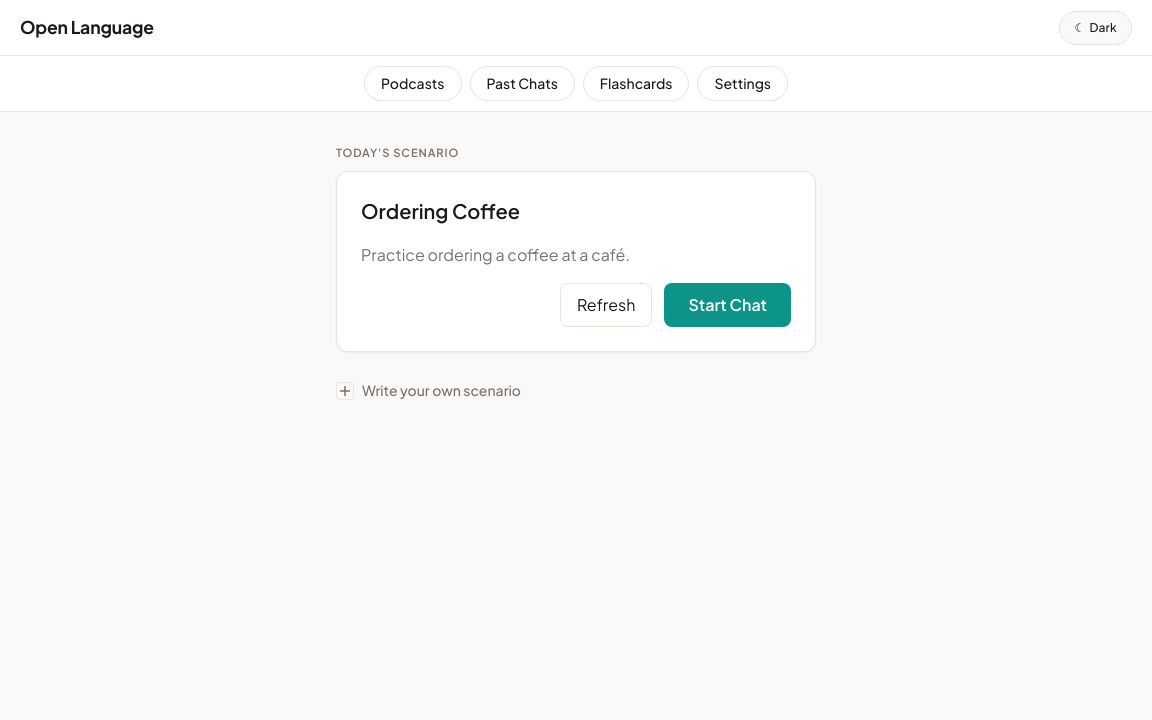
Test: Home page — starting a chat › reports a refresh failure
Expected: the heading "Ordering Coffee" is shown, x1=361 y1=198 x2=520 y2=223
Click the button "Refresh".
click(606, 305)  # box x1=560 y1=283 x2=652 y2=327
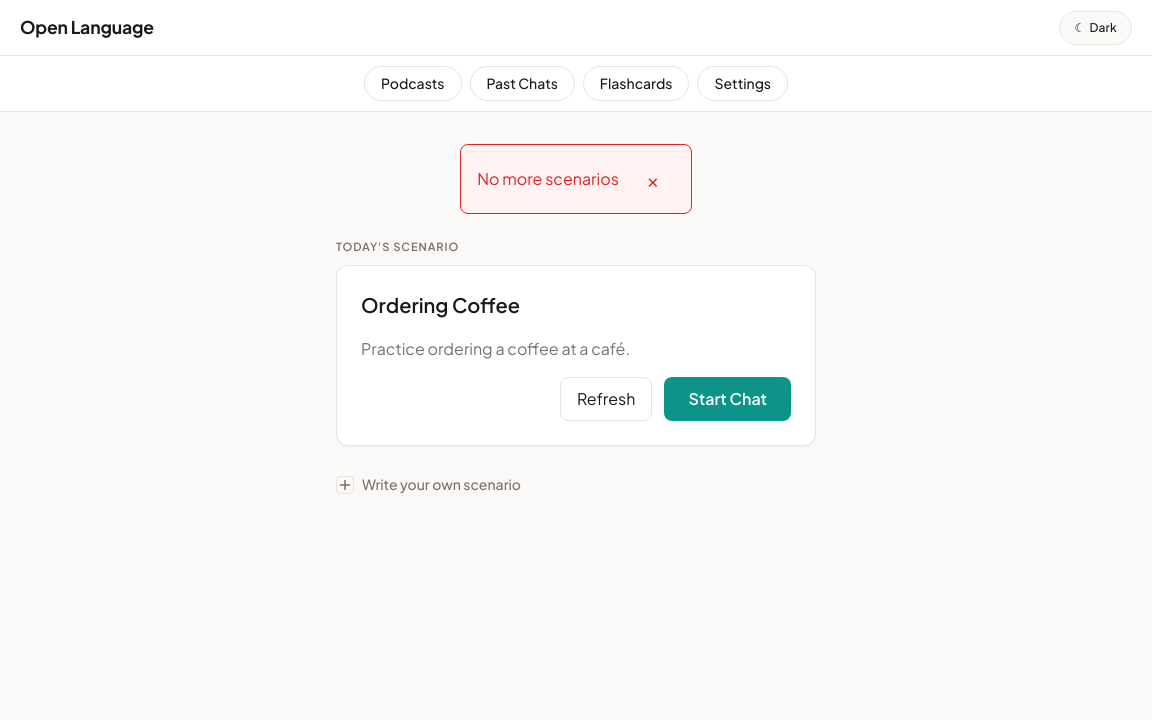
Now the text "No more scenarios" is shown, box x1=477 y1=167 x2=619 y2=191
